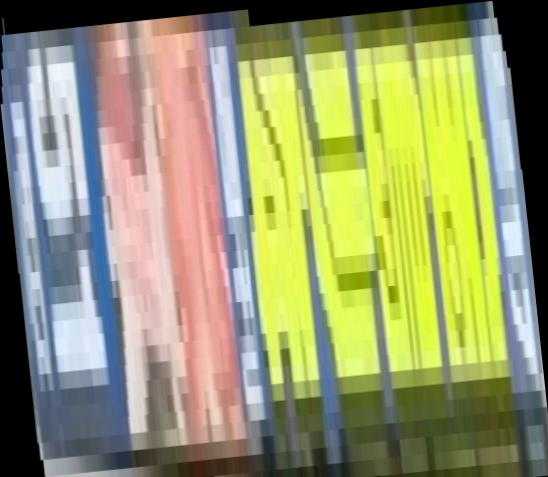flat: (1, 1, 548, 477)
